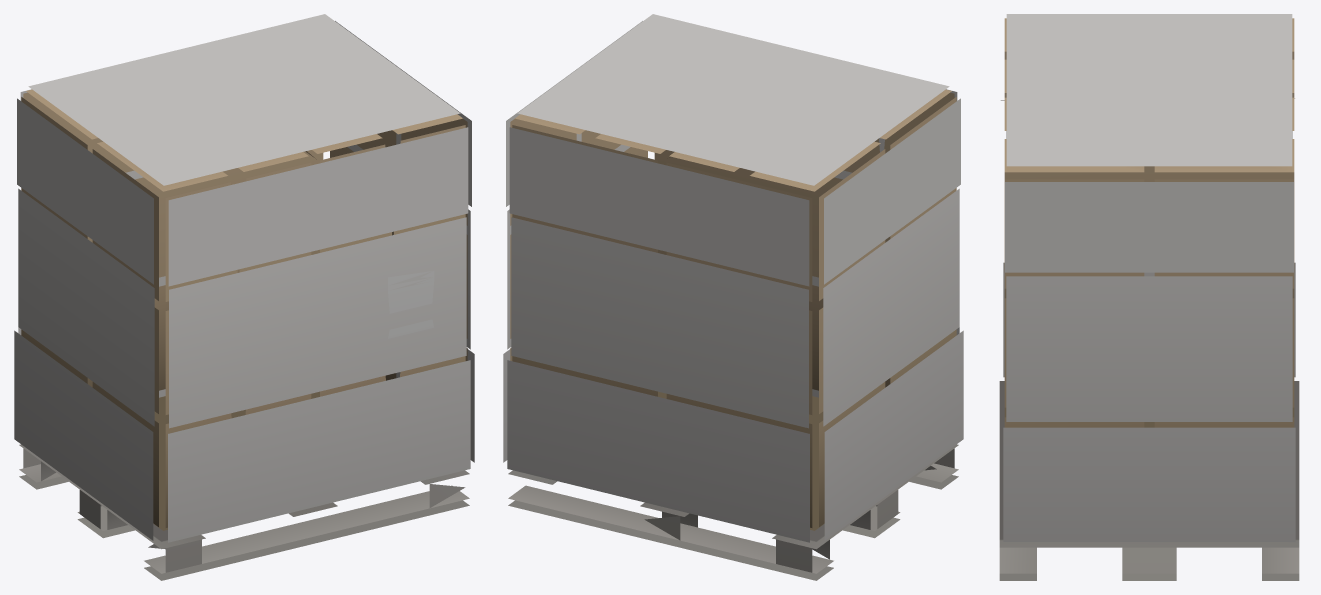
Rendered from wrap.lod.glb.
3 renders of one model, left to right at view 1: azimuth 30°, elevation 25°; view 2: azimuth 150°, elevation 25°; view 3: azimuth 270°, elevation 25°, orthographic. The views are drawn at different scales.
Visible parts, largest first — view 1: wrap; view 2: wrap; view 3: wrap.
Part boxes in pixels (x1=…): wrap: x1=14, y1=14, x2=474, y2=580; wrap: x1=503, y1=14, x2=963, y2=580; wrap: x1=999, y1=14, x2=1299, y2=580.
Bounding box in the file's own units: 1.04 × 1.21 × 0.84.
